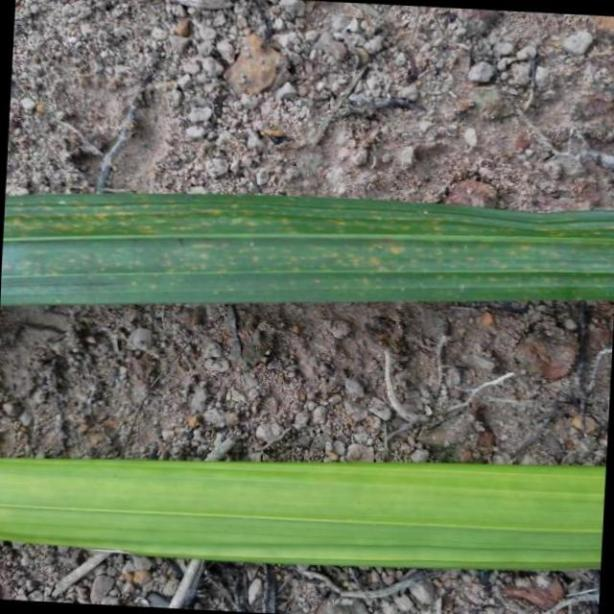nitrogen: (0, 189, 614, 308), (0, 454, 614, 569)
